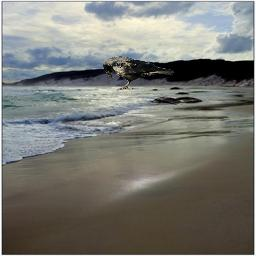Crow: (103, 56, 175, 92)
